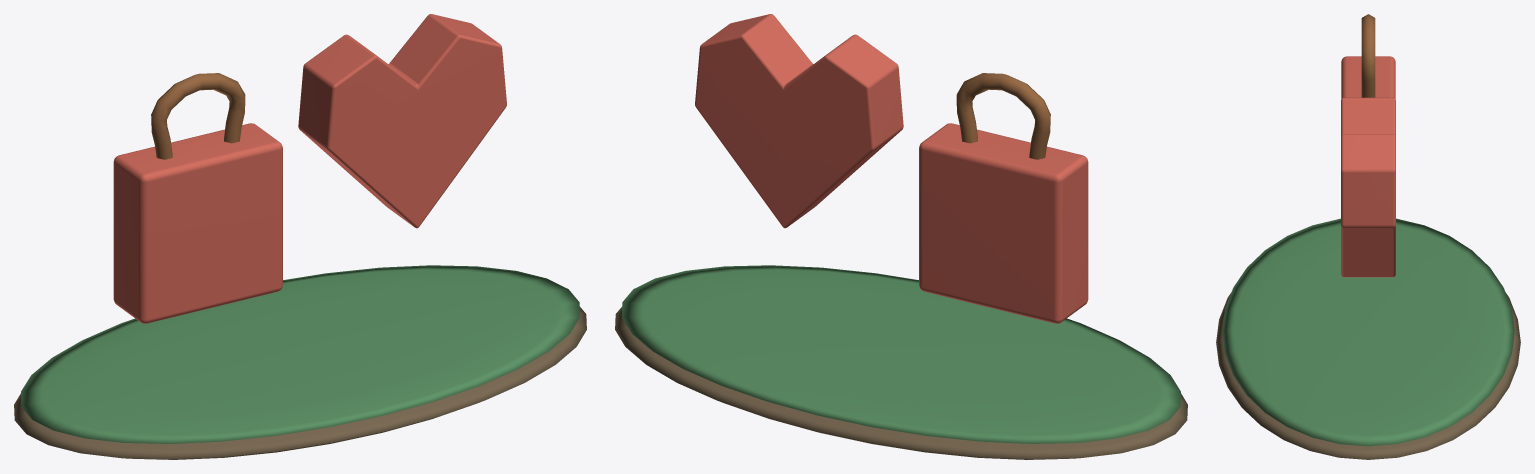
Rendered from burdened-heart.glb.
The picture shows the model from 3 angles, left to right: view 1: azimuth 30°, elevation 25°; view 2: azimuth 150°, elevation 25°; view 3: azimuth 270°, elevation 25°; orthographic projection. The views are drawn at different scales.
Visible parts, largest first — view 1: burdened-heart_surface_01, burdened-heart_surface_02, burdened-heart_surface_00, burdened-heart_surface_03; view 2: burdened-heart_surface_01, burdened-heart_surface_02, burdened-heart_surface_00, burdened-heart_surface_03; view 3: burdened-heart_surface_01, burdened-heart_surface_02, burdened-heart_surface_00, burdened-heart_surface_03.
Part boxes in pixels (x1,y1,x2,y2): burdened-heart_surface_01: [21, 265, 579, 443]; burdened-heart_surface_02: [113, 14, 506, 323]; burdened-heart_surface_00: [14, 307, 586, 459]; burdened-heart_surface_03: [151, 73, 245, 159]; burdened-heart_surface_01: [622, 265, 1180, 443]; burdened-heart_surface_02: [695, 14, 1088, 323]; burdened-heart_surface_00: [615, 307, 1187, 459]; burdened-heart_surface_03: [956, 73, 1050, 159]; burdened-heart_surface_01: [1222, 218, 1514, 446]; burdened-heart_surface_02: [1341, 56, 1395, 277]; burdened-heart_surface_00: [1216, 292, 1520, 459]; burdened-heart_surface_03: [1361, 14, 1375, 97].
Bounding box in the file's own units: 4.56 × 2.66 × 2.5.
